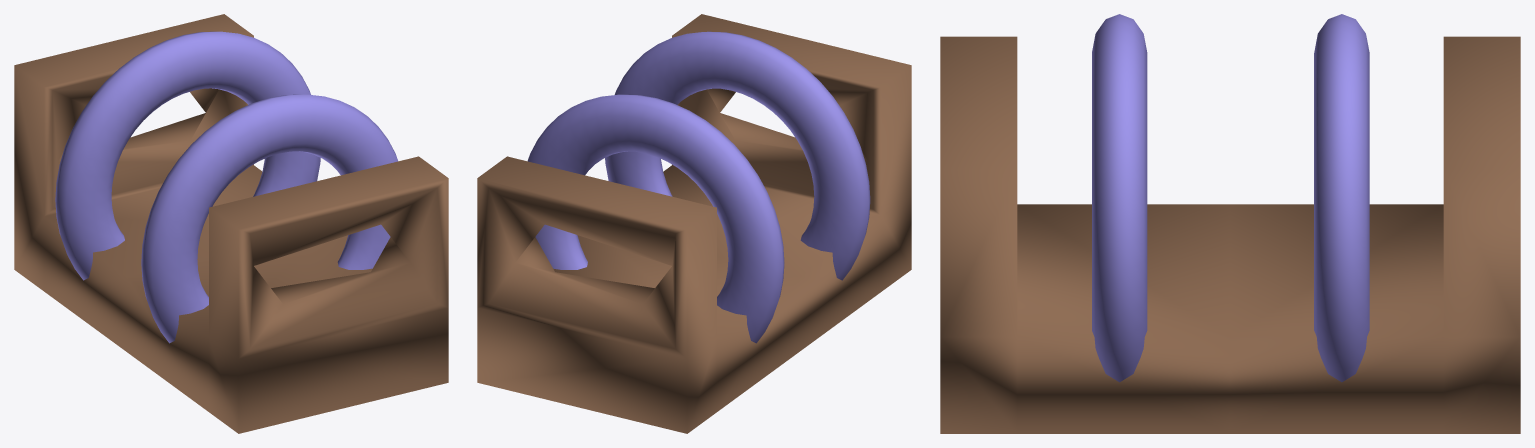
Rendered from RopeHanger.fbx.
3 renders of one model, left to right at view 1: azimuth 30°, elevation 25°; view 2: azimuth 150°, elevation 25°; view 3: azimuth 270°, elevation 25°, orthographic. The views are drawn at different scales.
Parts seen in each view (by area): view 1: Cube, Torus.001; view 2: Cube, Torus.001; view 3: Cube, Torus.001.
Boxes of the visible parts, <box> form: Cube: <box>14,14,448,433</box>; Torus.001: <box>55,31,397,343</box>; Cube: <box>477,14,911,433</box>; Torus.001: <box>527,31,870,343</box>; Cube: <box>940,36,1520,433</box>; Torus.001: <box>1092,14,1369,382</box>.
Size of the model in its own units: 250 by 236 by 370.
